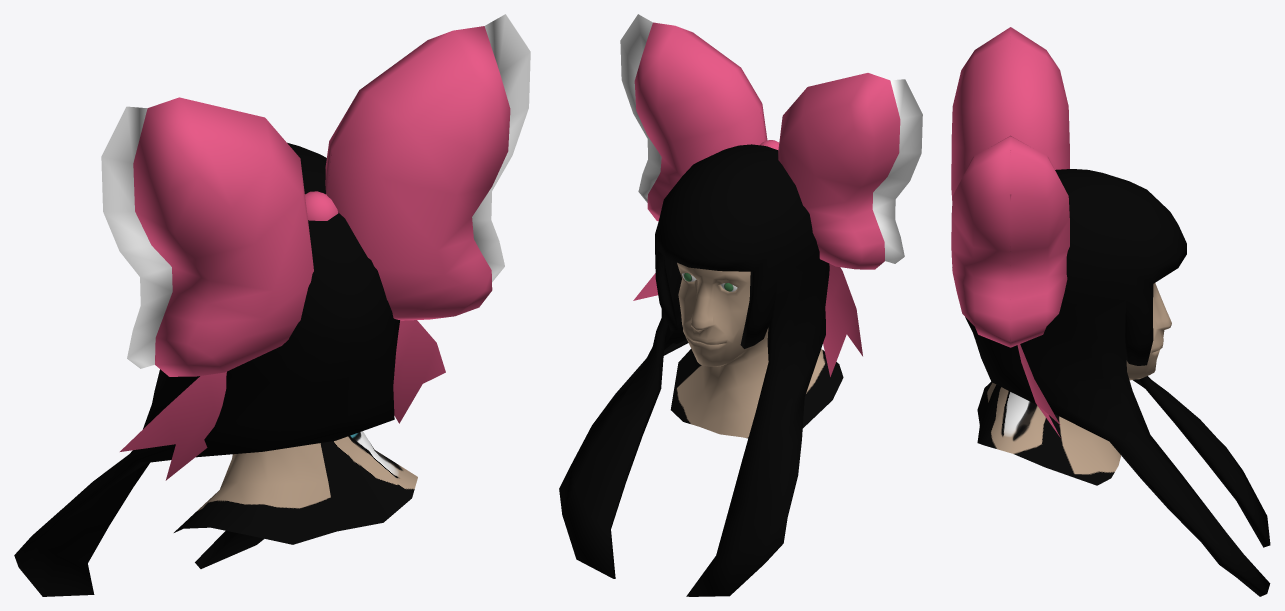
The model's file is Outfit_2_rework_2.fbx.
3 renders of one model, left to right at view 1: azimuth 30°, elevation 25°; view 2: azimuth 150°, elevation 25°; view 3: azimuth 270°, elevation 25°, orthographic. The views are drawn at different scales.
Parts seen in each view (by area): view 1: Outfit_2_Misc, Outfit_2_Top.001; view 2: Outfit_2_Misc, Outfit_2_Top.001; view 3: Outfit_2_Misc, Outfit_2_Top.001.
Boxes of the visible parts, bbox=[...] form: Outfit_2_Misc: bbox=[14, 14, 530, 596]; Outfit_2_Top.001: bbox=[174, 431, 417, 544]; Outfit_2_Misc: bbox=[559, 14, 922, 596]; Outfit_2_Top.001: bbox=[670, 262, 843, 438]; Outfit_2_Misc: bbox=[951, 27, 1270, 596]; Outfit_2_Top.001: bbox=[977, 283, 1171, 485].
Size of the model in its own units: 4625 by 6641 by 3968.
